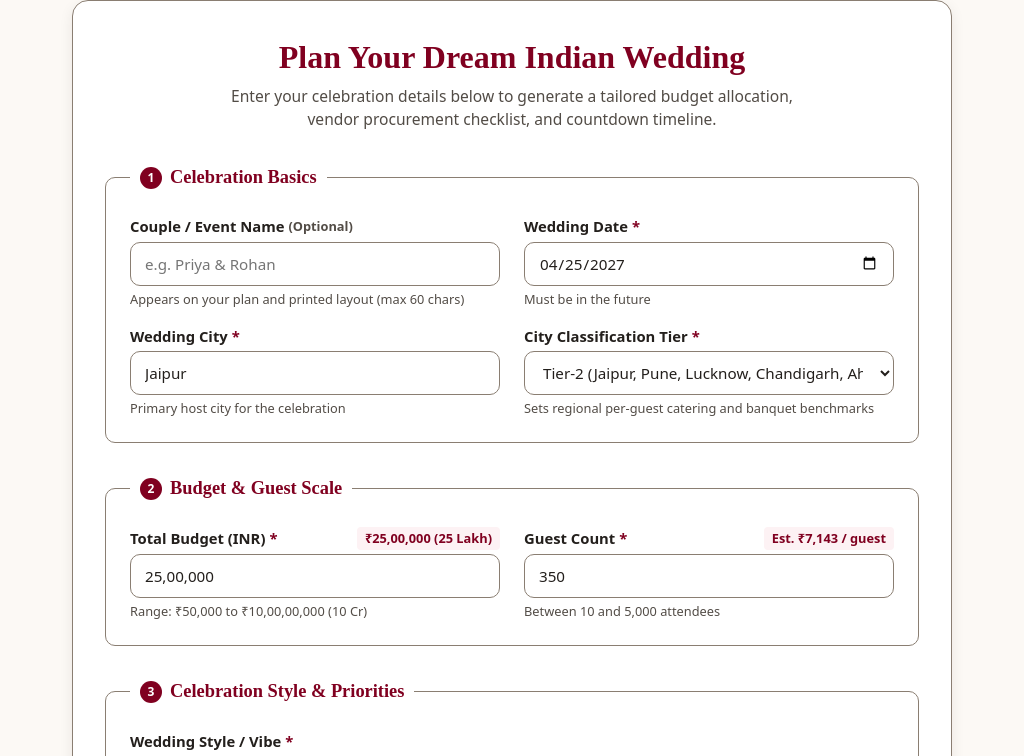
Scenario: IntakeForm Component › handles empty fields without coercing to 0 and formats on blur
# Clear the field
Step 1. Clear the field labelled "Total Budget (INR) *" → [315, 576], box [130,554,500,598]
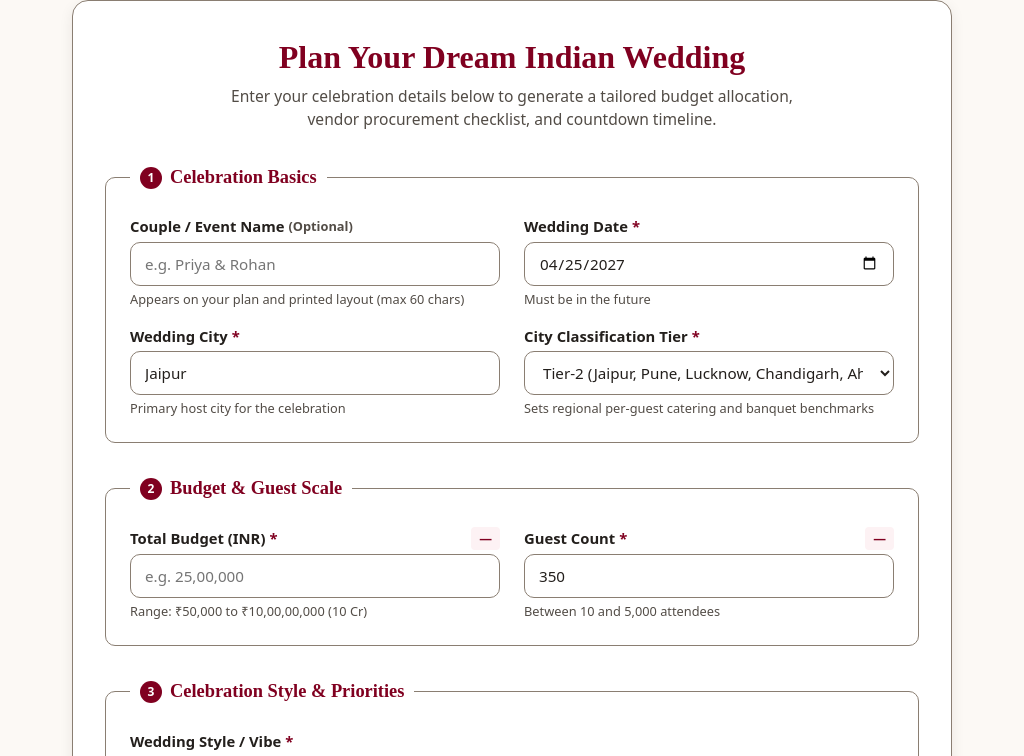
# Type 8515 - must not have leading zero
Step 2. Type "8515" into the field labelled "Total Budget (INR) *" → [315, 576], box [130,554,500,598]
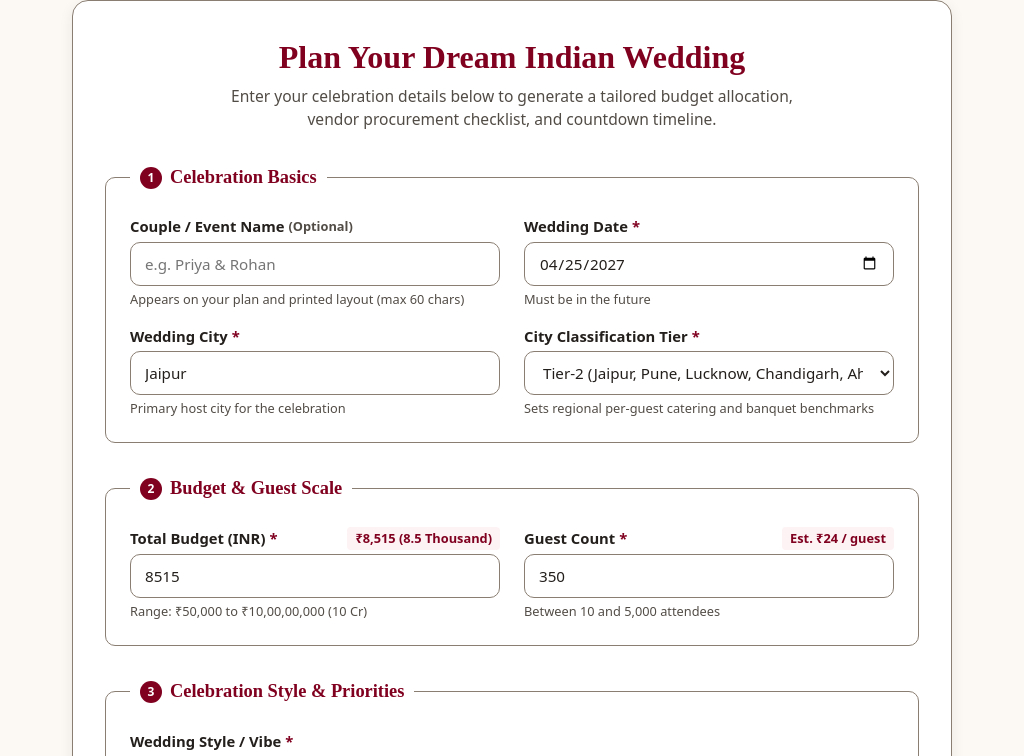
# Paste formatted Indian currency string
Step 3. Replace the text in the field labelled "Total Budget (INR) *" with "Rs 25,00,000" → [315, 576], box [130,554,500,598]
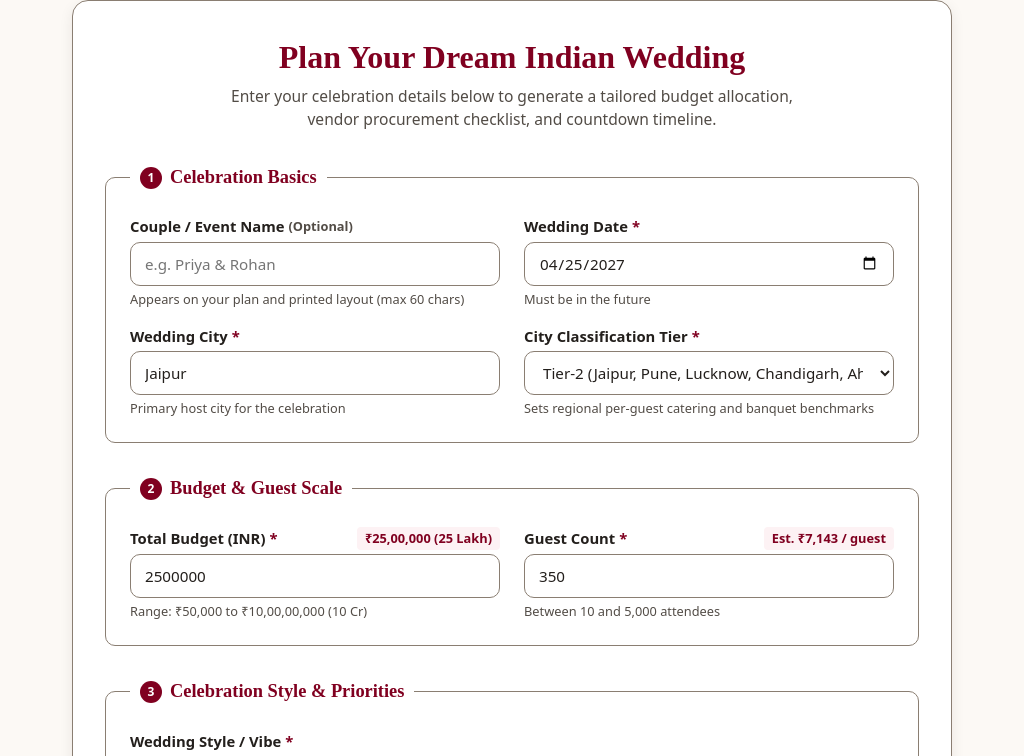
expect the field labelled "Total Budget (INR) *" holds "2500000": met
# On blur, format to Indian grouping
Step 4. Leave the field labelled "Total Budget (INR) *", box [130,554,500,598]
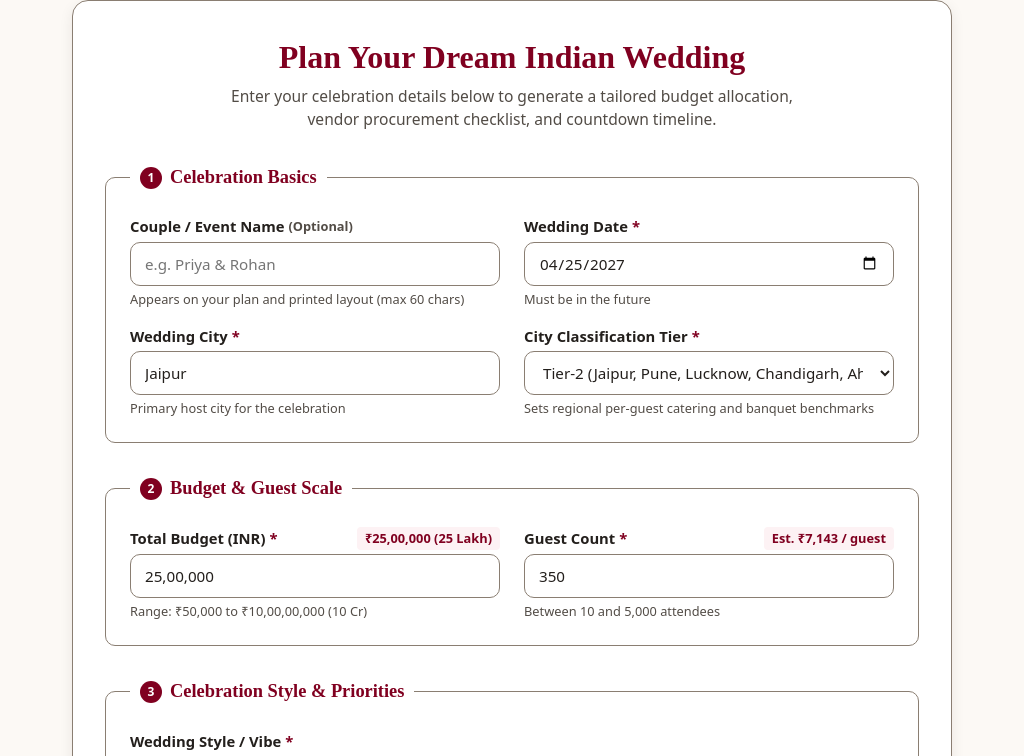
expect the field labelled "Total Budget (INR) *" holds "25,00,000": met, box [130,554,500,598]
